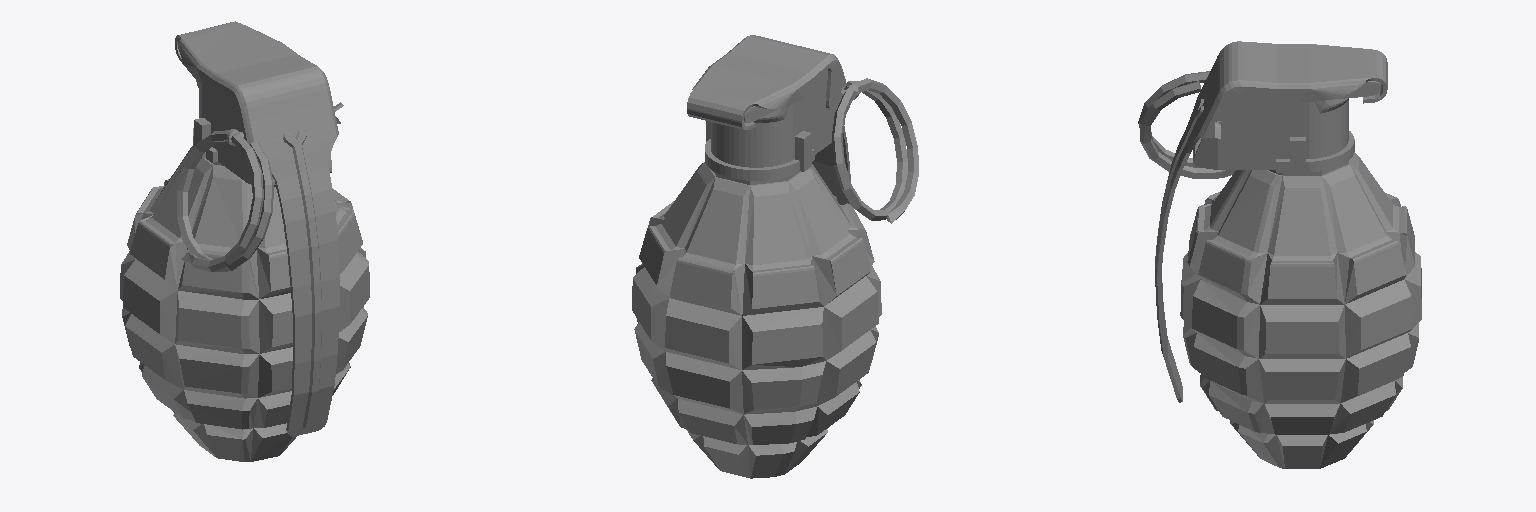
The model's file is grenade.obj.
The picture shows the model from 3 angles: view 1: azimuth 30°, elevation 25°; view 2: azimuth 150°, elevation 25°; view 3: azimuth 270°, elevation 25°; orthographic projection.
Parts seen in each view (by area): view 1: e_low, a_low, c_low, d_low; view 2: e_low, a_low, d_low, c_low; view 3: e_low, a_low, d_low, c_low.
Boxes of the visible parts, x1=… form: e_low: x1=120, y1=146, x2=369, y2=461; a_low: x1=175, y1=21, x2=339, y2=436; c_low: x1=177, y1=130, x2=273, y2=271; d_low: x1=178, y1=40, x2=331, y2=186; e_low: x1=632, y1=162, x2=881, y2=478; a_low: x1=687, y1=35, x2=850, y2=204; d_low: x1=705, y1=69, x2=836, y2=180; c_low: x1=832, y1=78, x2=918, y2=223; e_low: x1=1180, y1=152, x2=1421, y2=468; a_low: x1=1155, y1=41, x2=1387, y2=402; d_low: x1=1193, y1=82, x2=1380, y2=174; c_low: x1=1138, y1=71, x2=1235, y2=178.
Bounding box in the file's own units: 0.124 × 0.2236 × 0.1474.